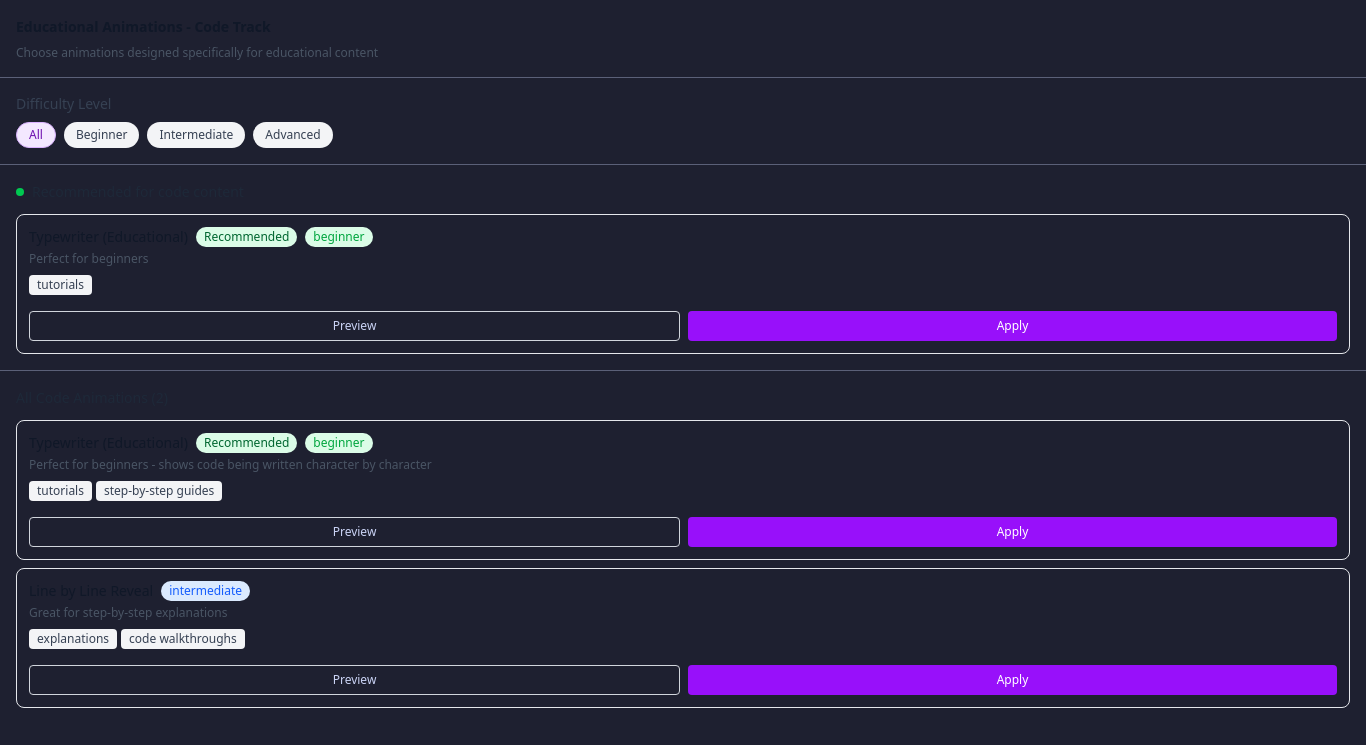
Test: AnimationPreview Component › should show preview content when preset is selected
The image size is (1366, 745).
Open preview
Click the button "Preview" below "Recommended for" at point(354, 326), box x1=29 y1=311 x2=680 y2=341
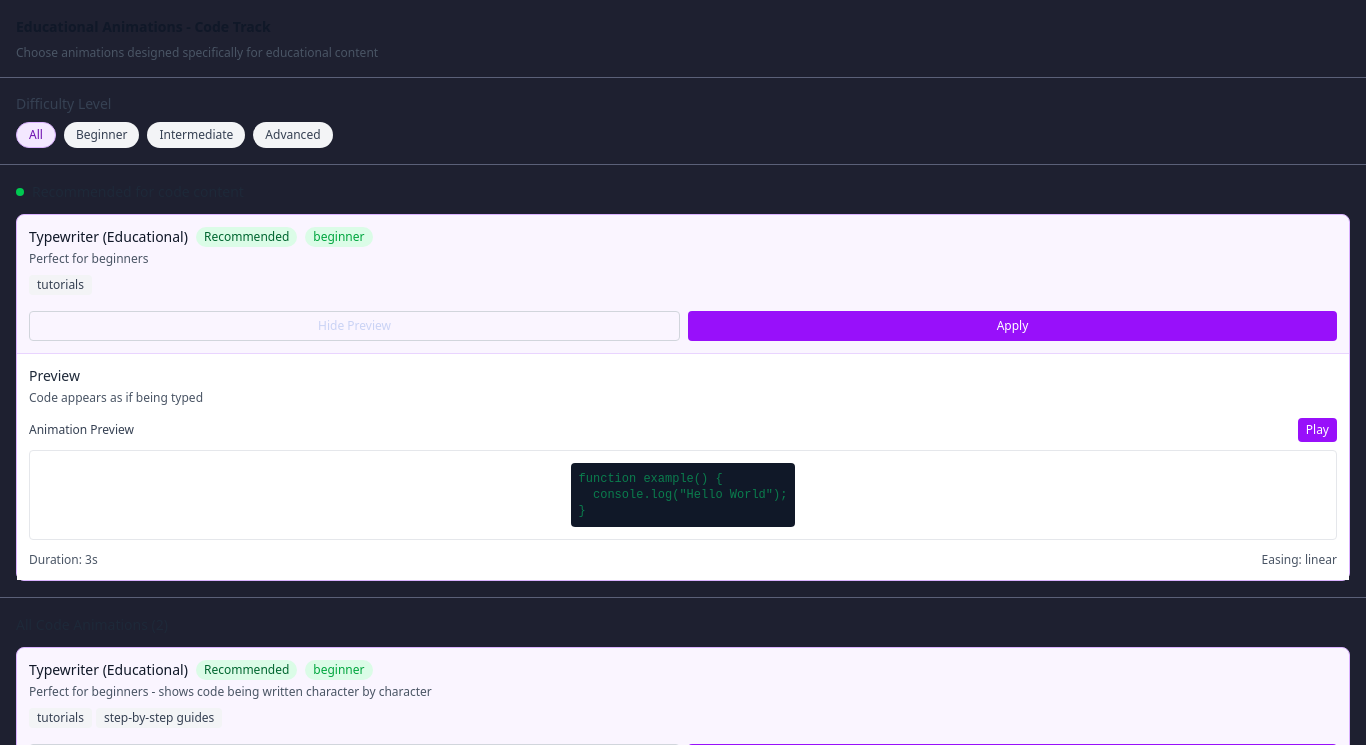
Result: the text "Animation Preview" is shown at x1=29 y1=422 x2=134 y2=438
Result: the button "Play" is shown at x1=1298 y1=418 x2=1337 y2=442
